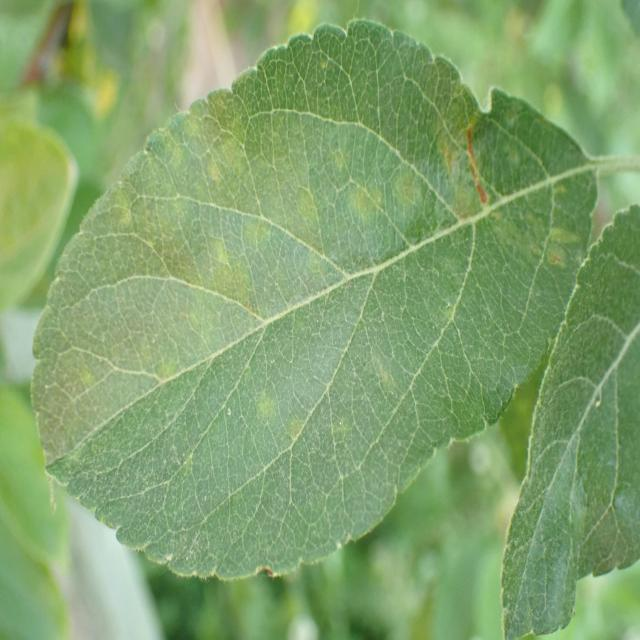scab: (28, 51, 578, 540)
